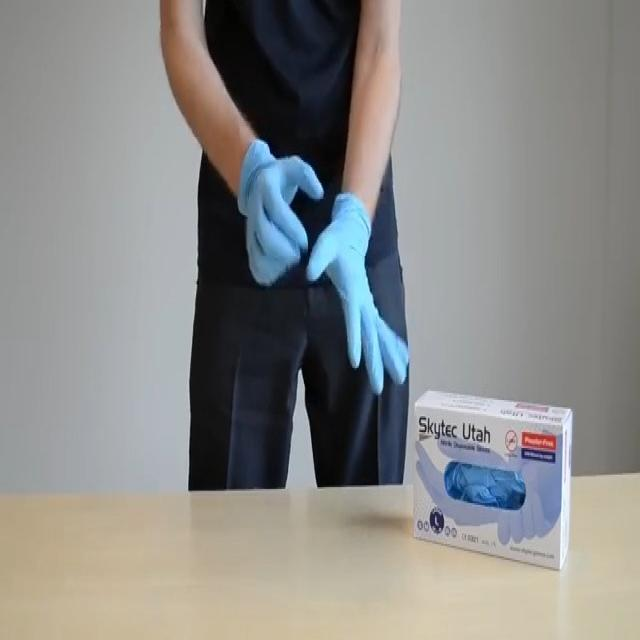Gloves: (308, 201, 413, 390), (236, 130, 319, 293)
